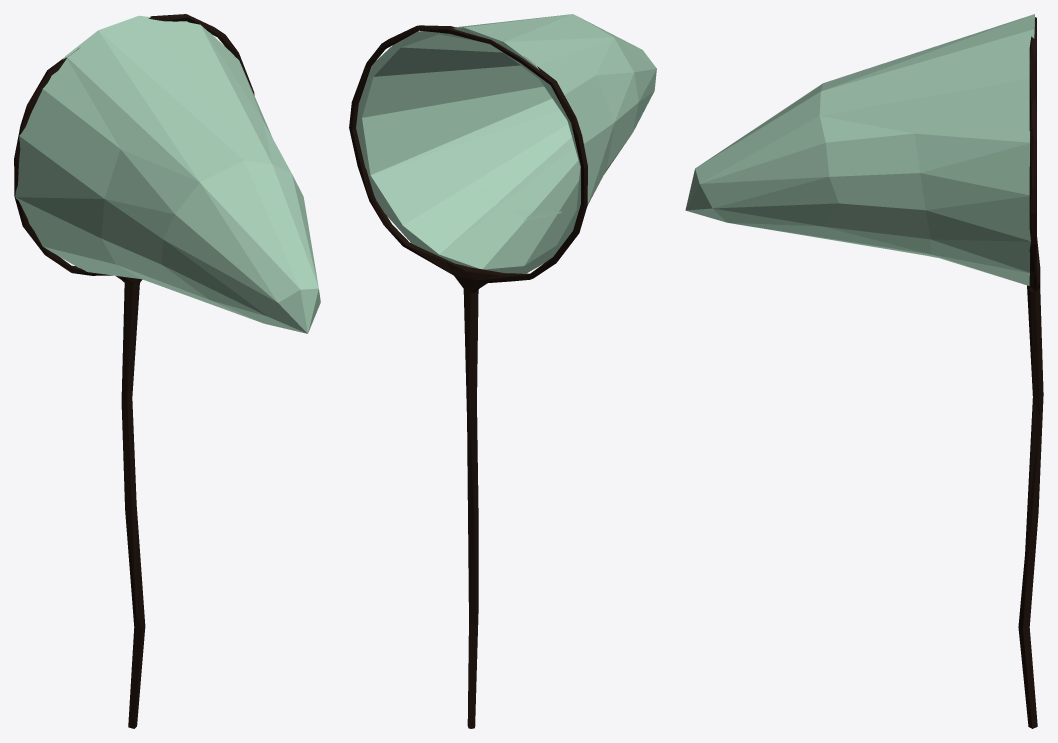
Rendered from ButterflyNet.obj.
3 renders of one model, left to right at view 1: azimuth 30°, elevation 25°; view 2: azimuth 150°, elevation 25°; view 3: azimuth 270°, elevation 25°, orthographic.
Visible parts, largest first — view 1: Cube; view 2: Cube; view 3: Cube.
Boxes of the visible parts, box(x1,y1,x2,y2) form: Cube: box(14, 14, 320, 728); Cube: box(349, 14, 656, 728); Cube: box(685, 14, 1043, 728).
Bounding box in the file's own units: 0.702 × 1.97 × 0.9108.
